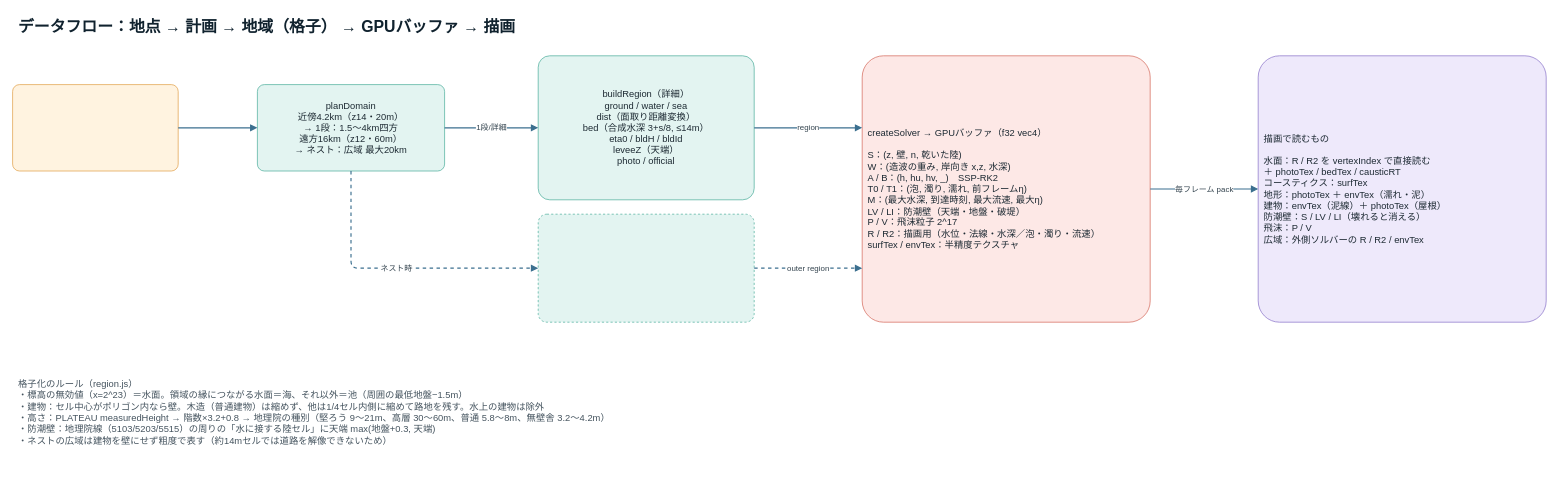
Image size: 1559x478. Some labels were removed from this diagram. The shapes that lost their labels are listed below. From the top down, each one's centre as x and y in pixels, then its label:
At point 95,127: "地点（緯度・経度） ＋ 海の高さ H ＋ 潮位・防潮壁の天端 ＋ 格子数 N".
At point 645,267: "buildOuterRegion（広域） 同上＋ manning （堅ろう建物の被覆率 → n = 0.045〜0.09）".
